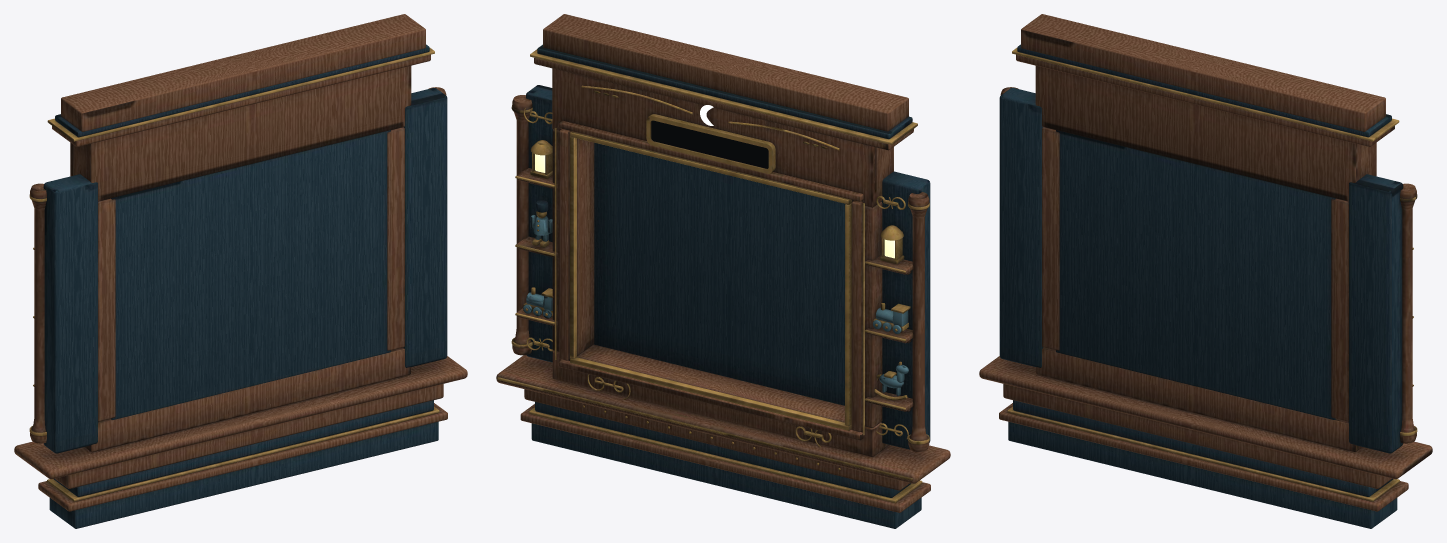
3 renders of one model, left to right at view 1: azimuth 30°, elevation 25°; view 2: azimuth 150°, elevation 25°; view 3: azimuth 330°, elevation 25°, orthographic.
Parts seen in each view (by area): view 1: Midnight_painted_timber, Soft_walnut_theatre, Honey_brass_trim; view 2: Soft_walnut_theatre, Midnight_painted_timber, Honey_brass_trim, Even_dark_display_face, Blue_painted_tin; view 3: Midnight_painted_timber, Soft_walnut_theatre, Honey_brass_trim.
Boxes of the visible parts, bbox=[...] form: Midnight_painted_timber: bbox=[43, 44, 447, 528]; Soft_walnut_theatre: bbox=[14, 14, 467, 511]; Honey_brass_trim: bbox=[29, 48, 439, 501]; Soft_walnut_theatre: bbox=[496, 14, 950, 512]; Midnight_painted_timber: bbox=[526, 44, 930, 528]; Honey_brass_trim: bbox=[497, 49, 929, 502]; Even_dark_display_face: bbox=[651, 120, 768, 168]; Blue_painted_tin: bbox=[523, 214, 908, 396]; Midnight_painted_timber: bbox=[999, 44, 1403, 528]; Soft_walnut_theatre: bbox=[979, 14, 1432, 511]; Honey_brass_trim: bbox=[1007, 48, 1417, 501].
Size of the model in its own units: 10.65 by 10 by 1.64.
Materials: 7 (5 with a texture image).
